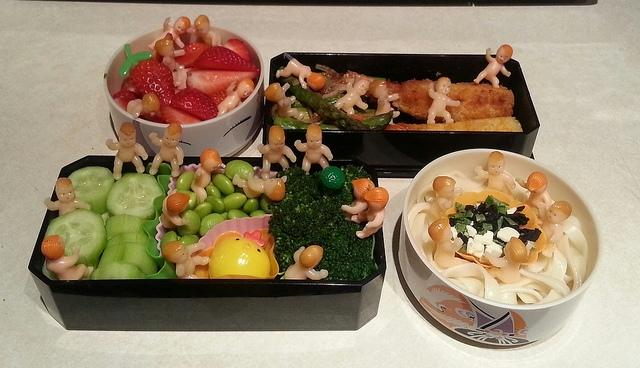broccoli: (269, 166, 376, 280), (342, 164, 372, 183)
cucumber: (44, 208, 108, 266), (107, 173, 162, 220), (68, 166, 114, 214), (96, 243, 158, 274), (105, 214, 150, 241), (90, 264, 148, 280), (105, 232, 148, 249)
strawberry: (130, 60, 176, 106), (186, 68, 258, 95), (193, 46, 260, 74), (170, 88, 218, 120), (177, 42, 212, 68), (158, 106, 202, 124), (223, 38, 250, 60), (113, 90, 137, 111)
